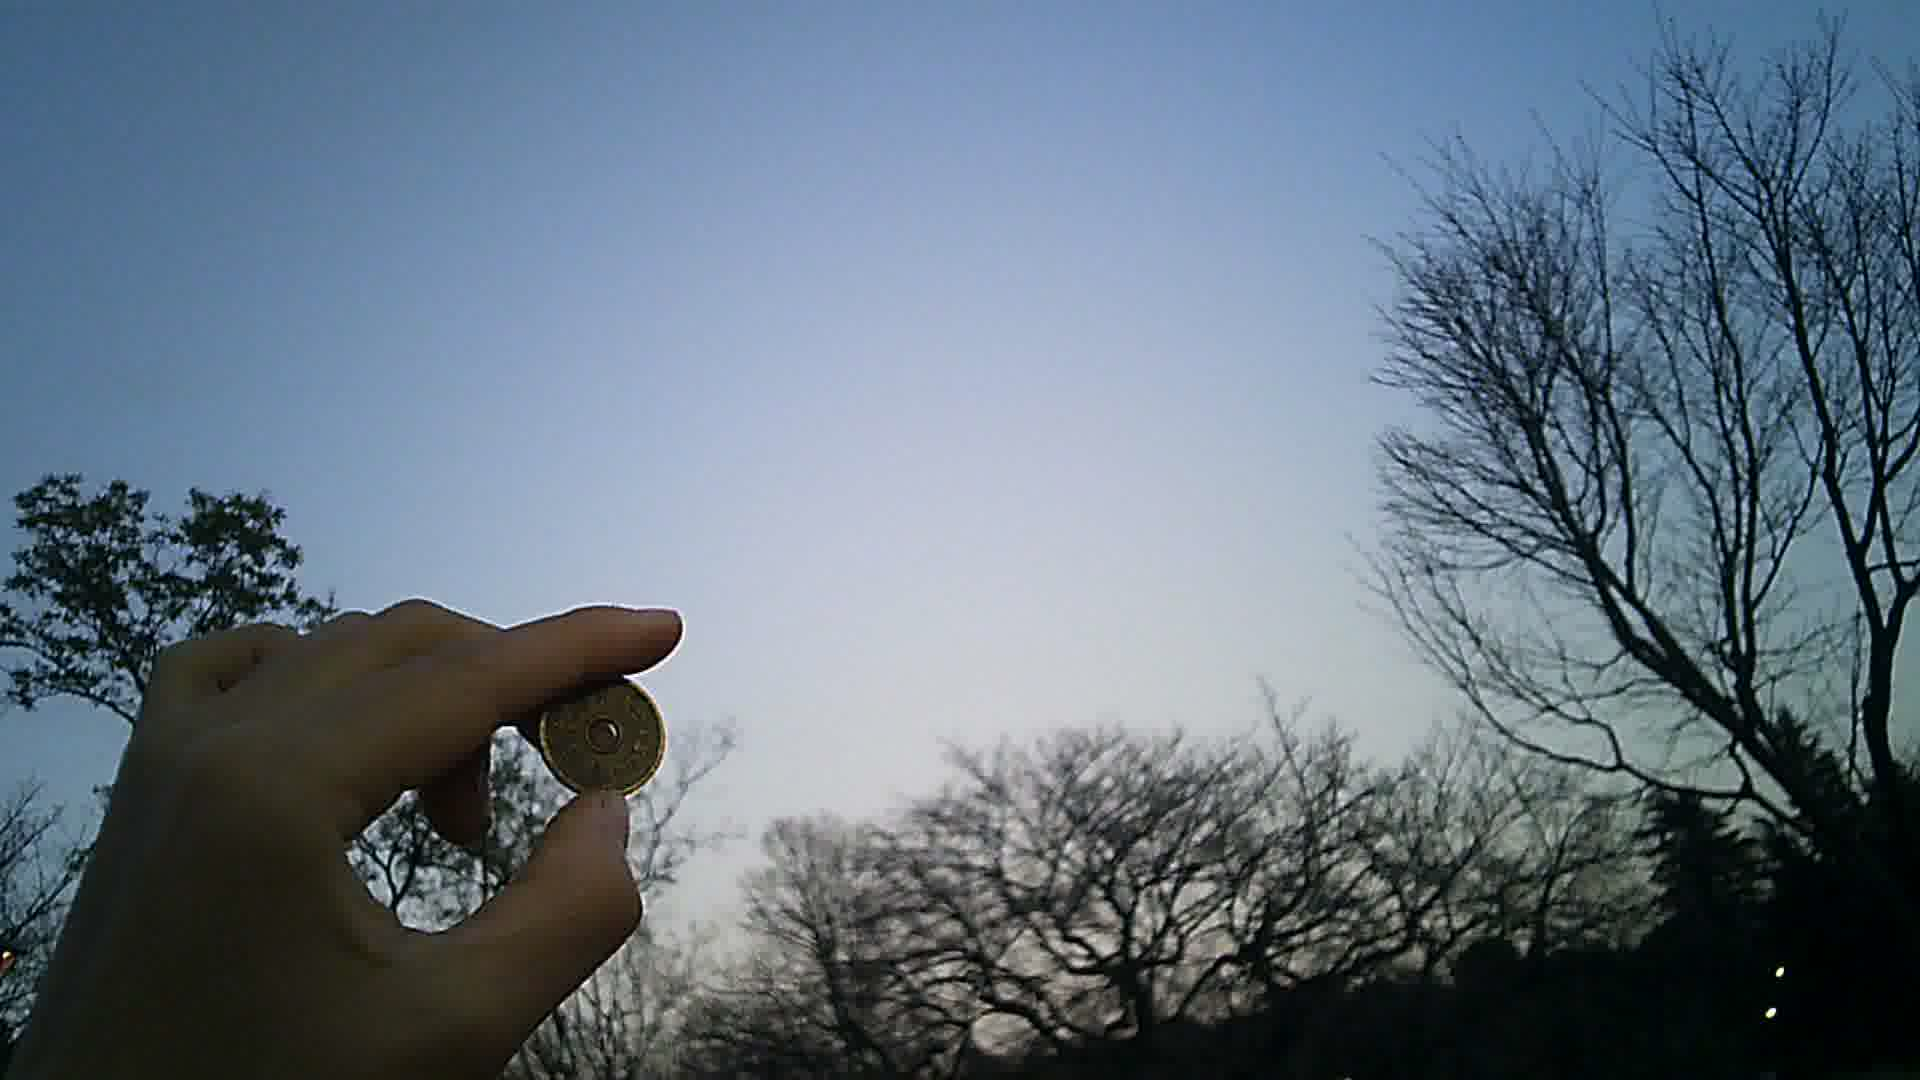5 Yen: (542, 669, 669, 806)
